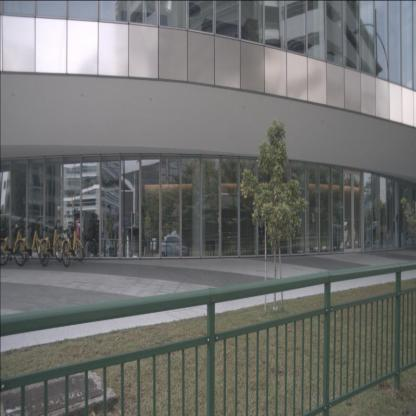vehicle-car: (160, 236, 188, 258), (94, 237, 116, 257)
